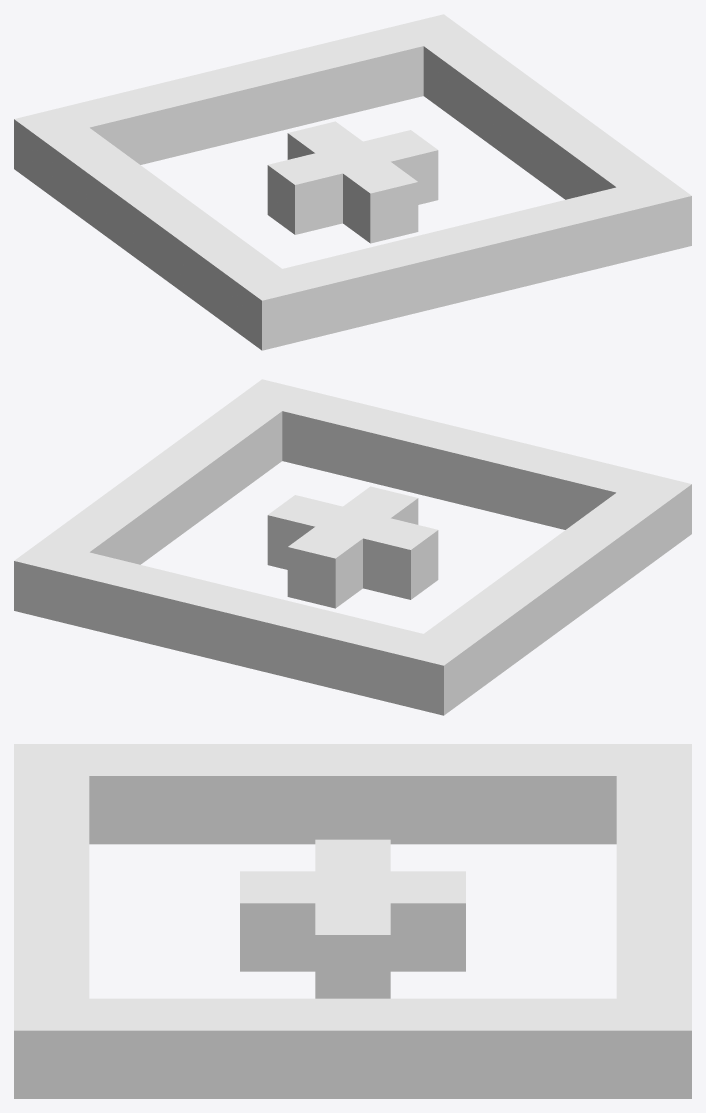
Rendered from tlc_spawn.obj.
3 views of the same model, one above another, from view 1: azimuth 30°, elevation 25°; view 2: azimuth 150°, elevation 25°; view 3: azimuth 270°, elevation 25° (orthographic). The views are drawn at different scales.
Bounding box in the file's own units: 0.9 × 0.1 × 0.9.
Materials: 1 (1 with a texture image).
